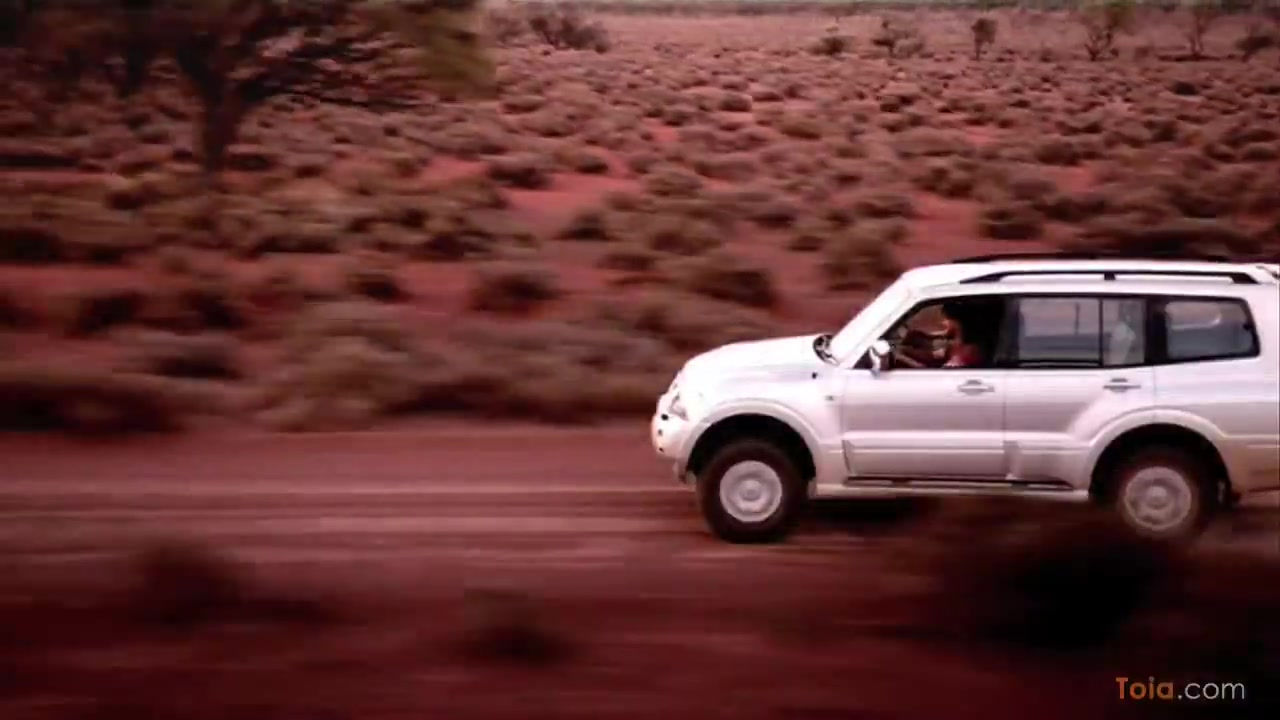car: (647, 249, 1279, 547)
